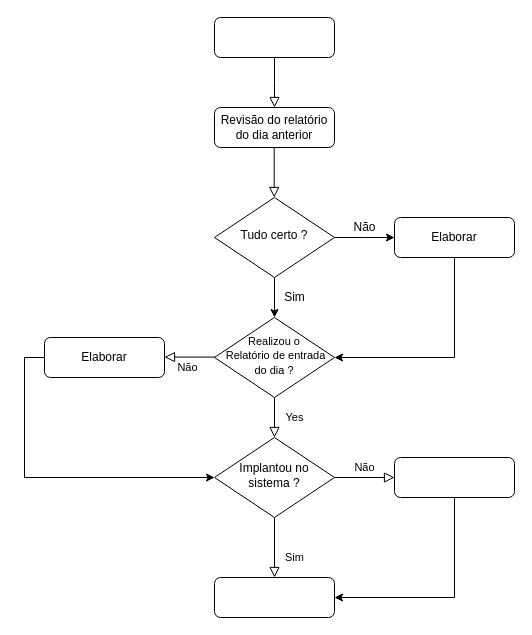
The diagram is 532 pixels wide and 635 high, and some of its shapes have lost their labels. Each missing label, with the box of its shape:
Entrada: (214, 16, 334, 58)
Fim: (214, 576, 334, 618)
Implantar: (394, 456, 514, 498)
